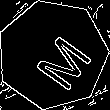M_NW: (18, 21, 87, 88)
